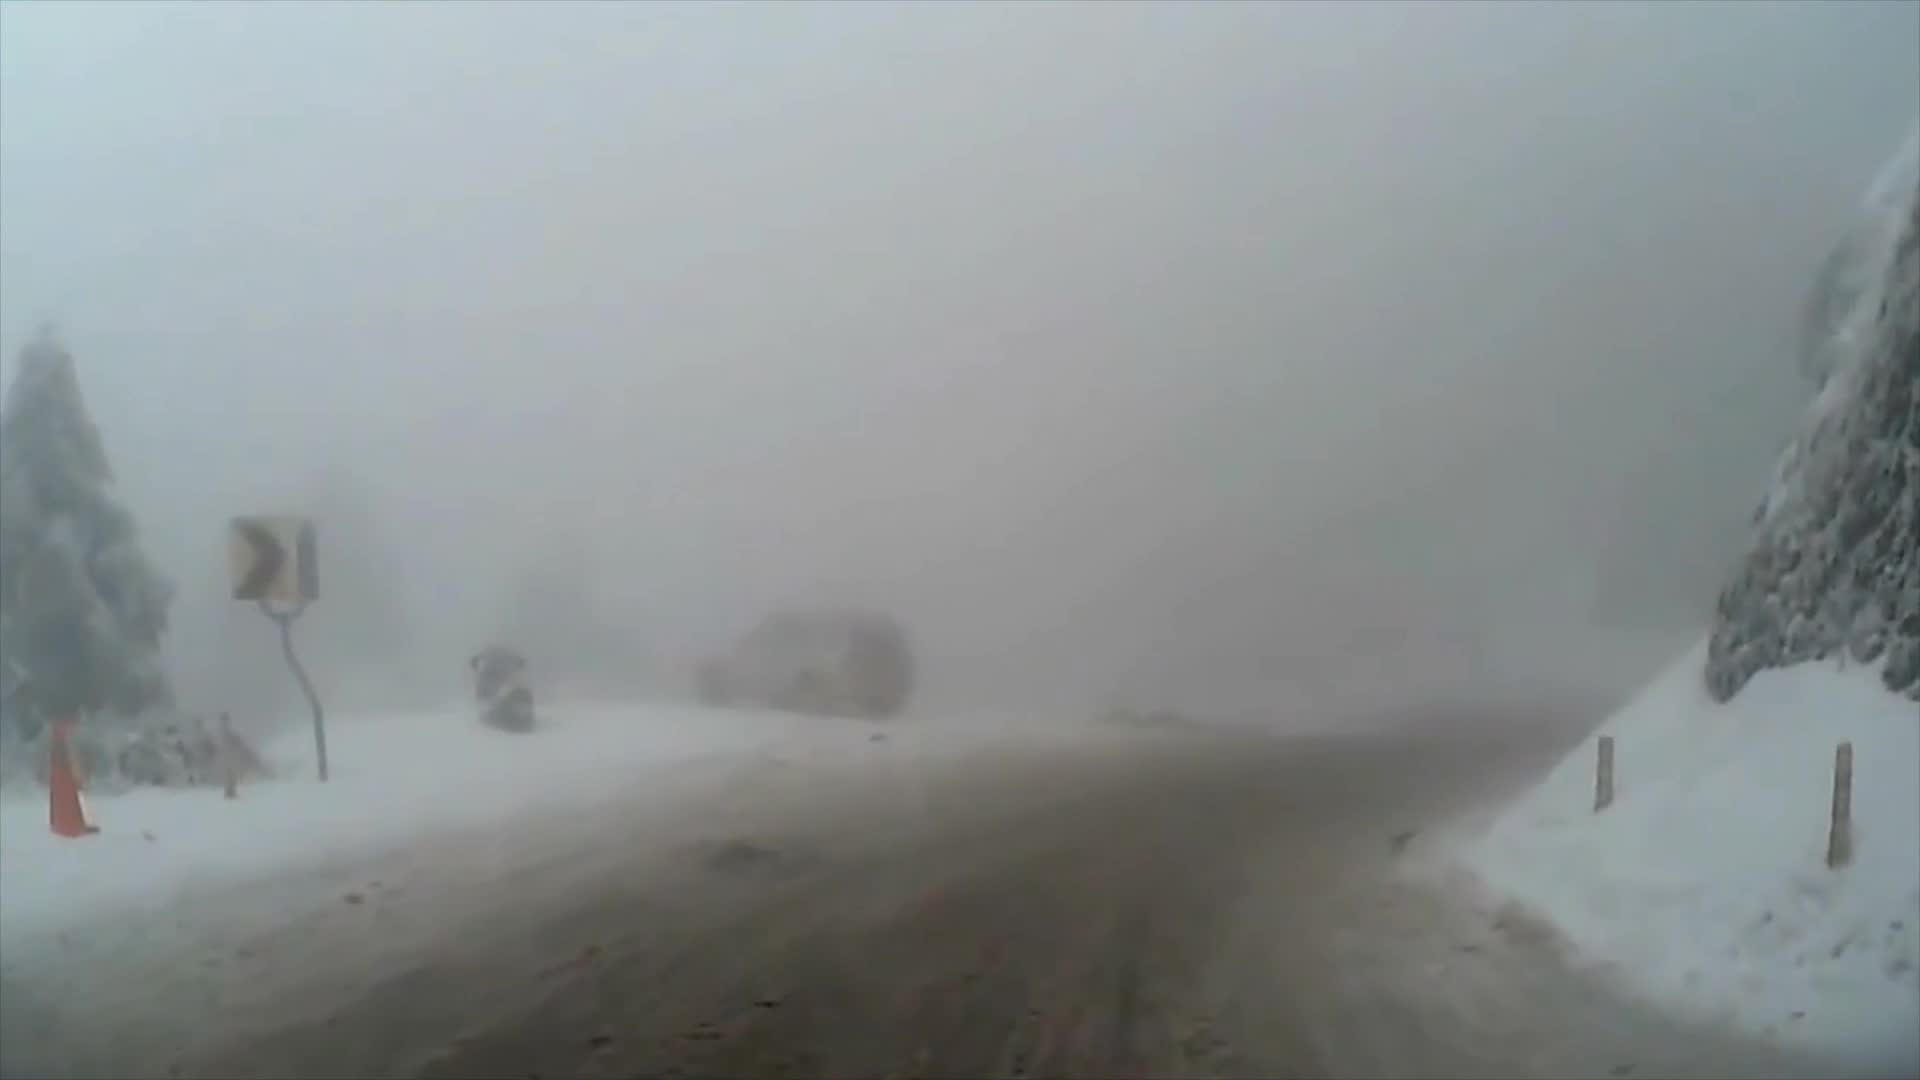vehicle: (694, 607, 915, 719)
